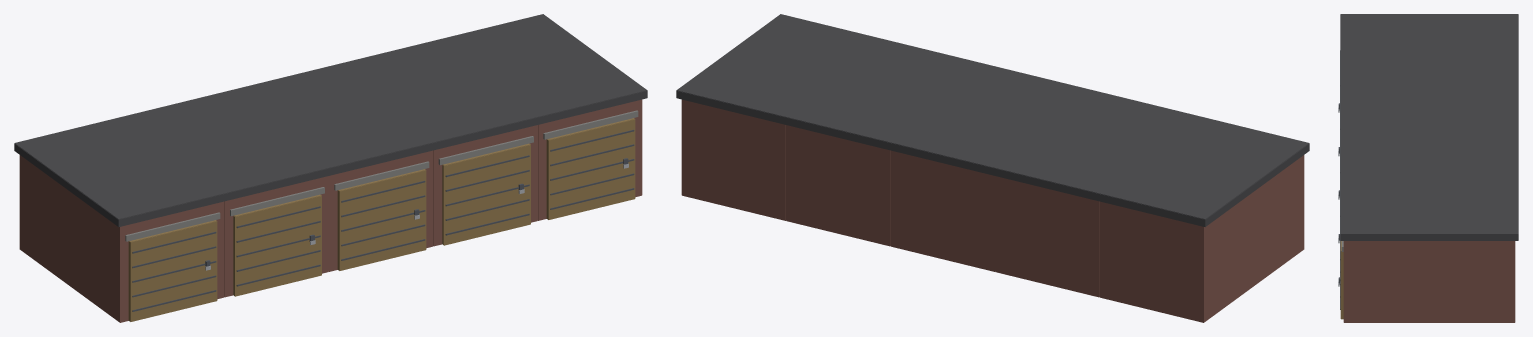
Rendered from garage_row.glb.
3 views of the same model, side by side, from view 1: azimuth 30°, elevation 25°; view 2: azimuth 150°, elevation 25°; view 3: azimuth 270°, elevation 25° (orthographic). The views are drawn at different scales.
Visible parts, largest first — view 1: garage_mesh; view 2: garage_mesh; view 3: garage_mesh.
Boxes of the visible parts, left/top/right/bottom form: garage_mesh: left=14, top=14, right=647, bottom=322; garage_mesh: left=676, top=14, right=1309, bottom=322; garage_mesh: left=1338, top=14, right=1518, bottom=322.
Size of what is drawn, in the model's own units: 15.2 by 2.91 by 5.26.
